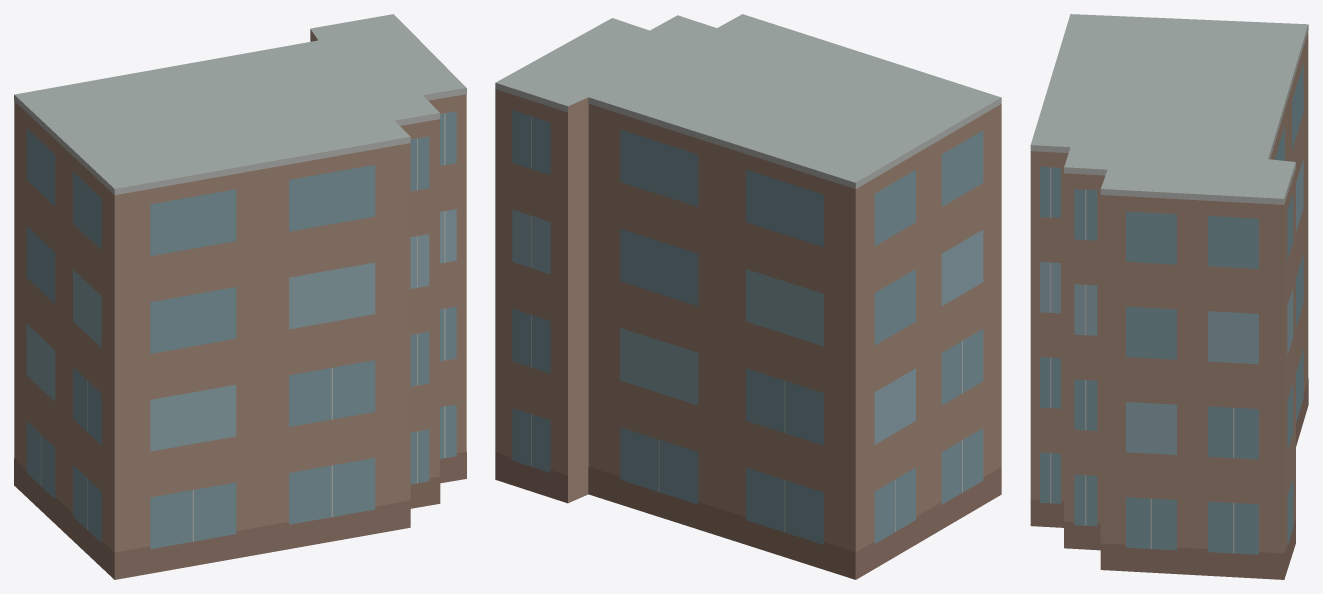
The model's file is survey-upis-32808995.glb.
The picture shows the model from 3 angles, left to right: view 1: azimuth 30°, elevation 25°; view 2: azimuth 150°, elevation 25°; view 3: azimuth 270°, elevation 25°; orthographic projection. The views are drawn at different scales.
Parts seen in each view (by area): view 1: survey-upis-32808995.tmp; view 2: survey-upis-32808995.tmp; view 3: survey-upis-32808995.tmp.
Part boxes in pixels (x1,y1,x2,y2): survey-upis-32808995.tmp: (14,14,466,579); survey-upis-32808995.tmp: (495,14,1001,579); survey-upis-32808995.tmp: (1030,14,1308,579).
Size of the model in its own units: 16.04 by 15.4 by 10.19.
